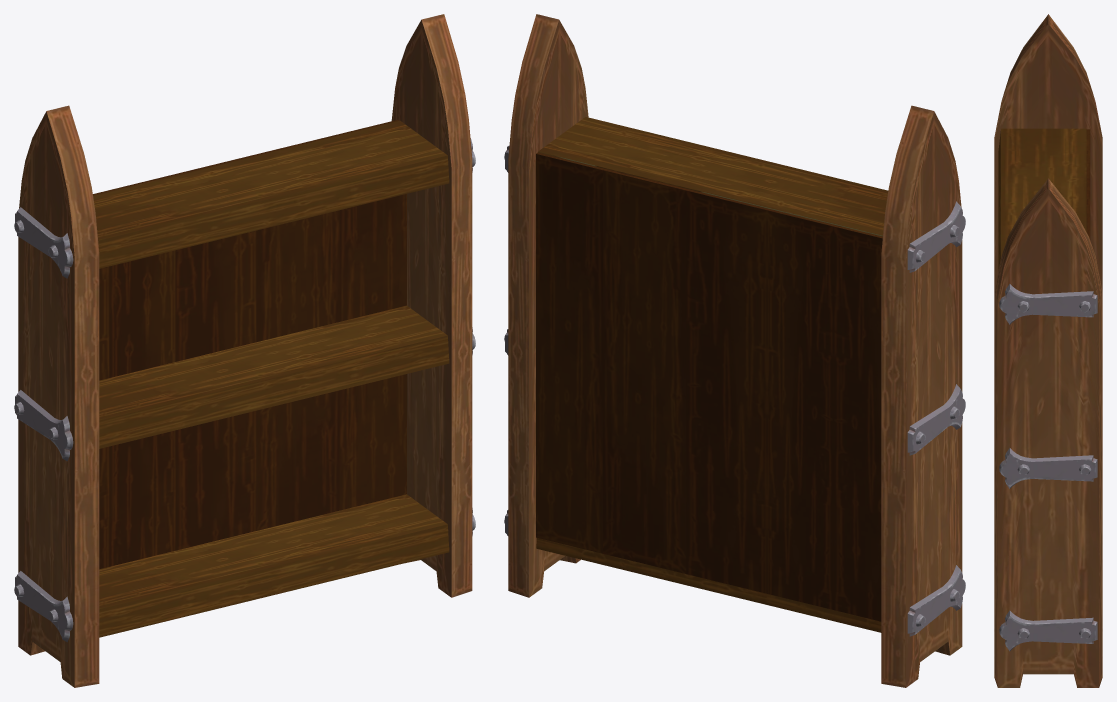
File: Shelf_Arch.glb
The picture shows the model from 3 angles, left to right: view 1: azimuth 30°, elevation 25°; view 2: azimuth 150°, elevation 25°; view 3: azimuth 270°, elevation 25°; orthographic projection. The views are drawn at different scales.
Visible parts, largest first — view 1: Shelf_Arch; view 2: Shelf_Arch; view 3: Shelf_Arch.
Boxes of the visible parts, x1=… form: Shelf_Arch: x1=14, y1=14, x2=475, y2=687; Shelf_Arch: x1=504, y1=14, x2=965, y2=687; Shelf_Arch: x1=994, y1=14, x2=1102, y2=687.
Size of the model in its own units: 1.25 by 1.59 by 0.3116.
2 materials, 2 textured.
